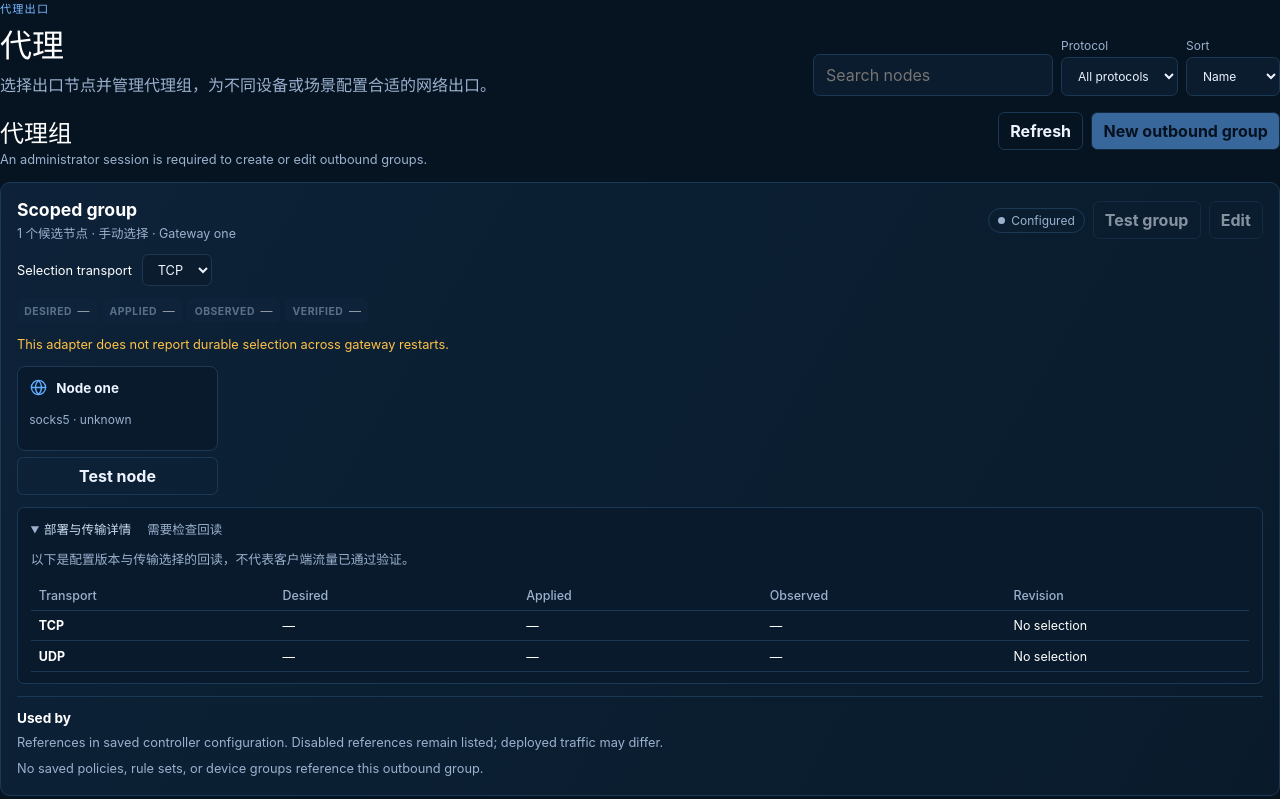
Test: requires actual assigned gateway probe capability and labels gateway measurements
Expected: the button with aria-label "Test group Scoped group from gateway" is disabled, [1093,202,1201,240]
Click the button with aria-label "Test node Node one from gateway for Scoped group" at (118, 476), box [17,457,218,495]
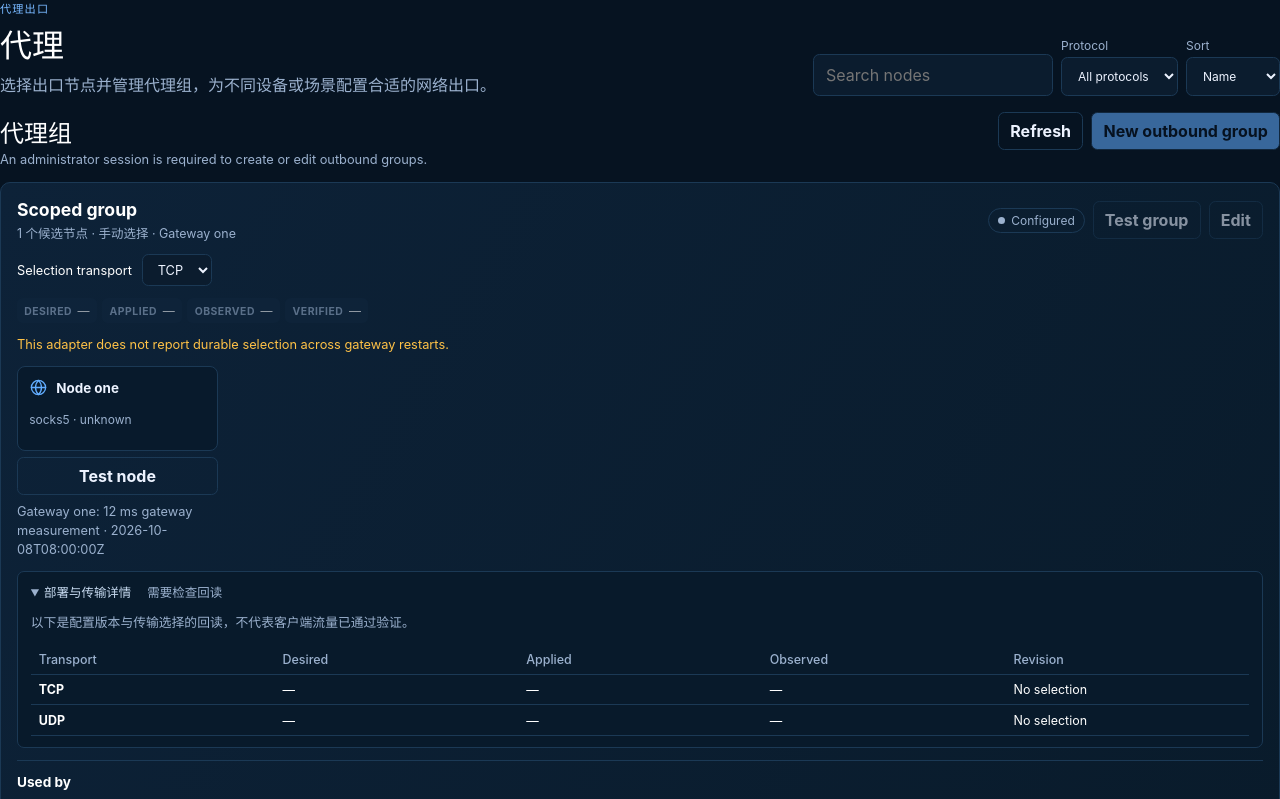
Expected: the text "Gateway one: 12 ms gateway measurement" is shown, [17,504,192,557]
